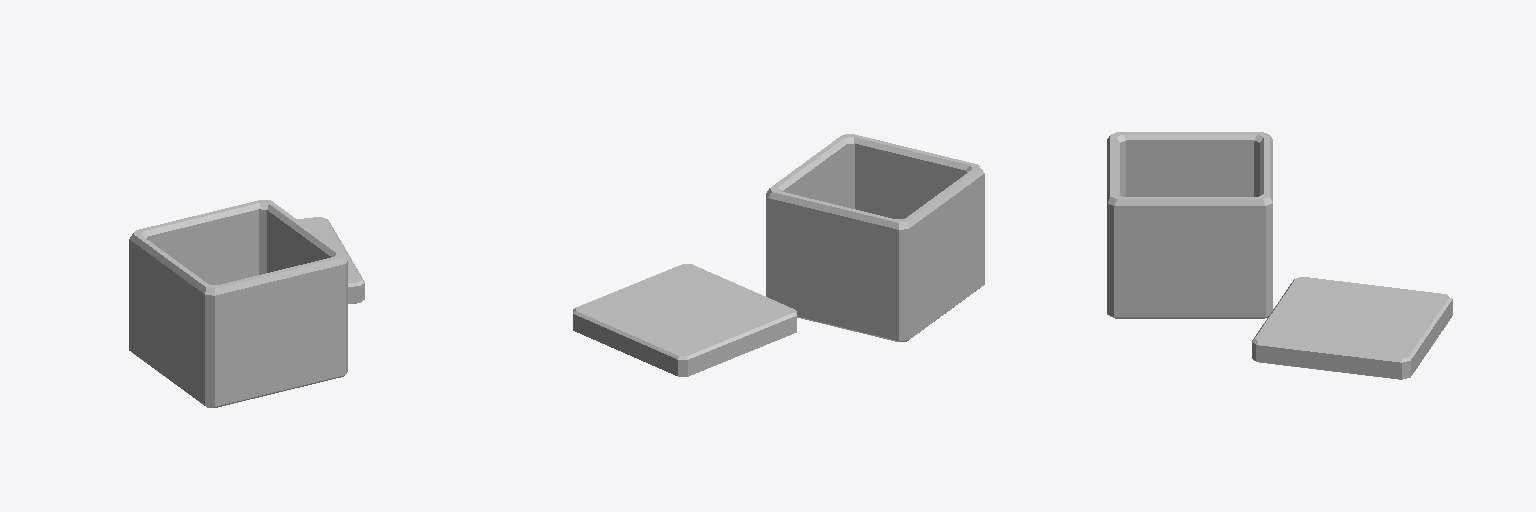
Rendered from boxBig_open3.obj.
3 renders of one model, left to right at view 1: azimuth 30°, elevation 25°; view 2: azimuth 150°, elevation 25°; view 3: azimuth 270°, elevation 25°, orthographic.
Visible parts, largest first — view 1: boxBig; view 2: boxBig; view 3: boxBig.
Part boxes in pixels (bbox=[...]): boxBig: bbox=[129, 200, 364, 407]; boxBig: bbox=[573, 134, 984, 376]; boxBig: bbox=[1107, 132, 1452, 379].
Size of the model in its own units: 2.23 by 0.9561 by 2.49.